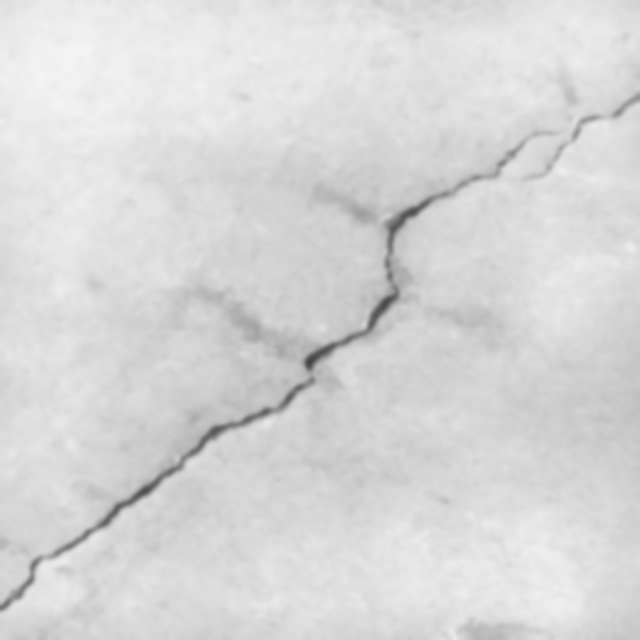SurfaceCrack: (2, 0, 640, 637)
